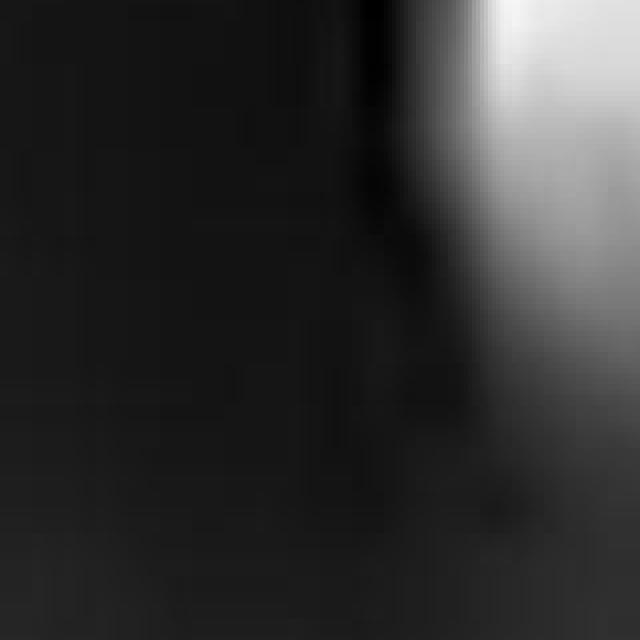person: (397, 1, 640, 497)
